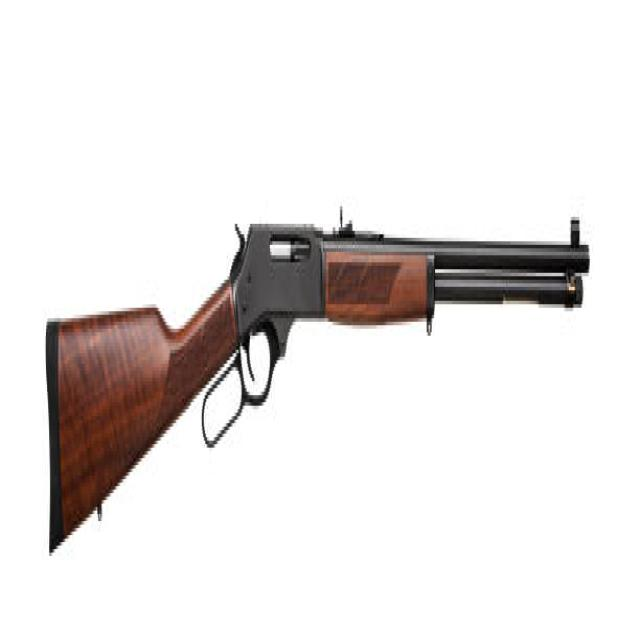rifle: (45, 208, 593, 565)
